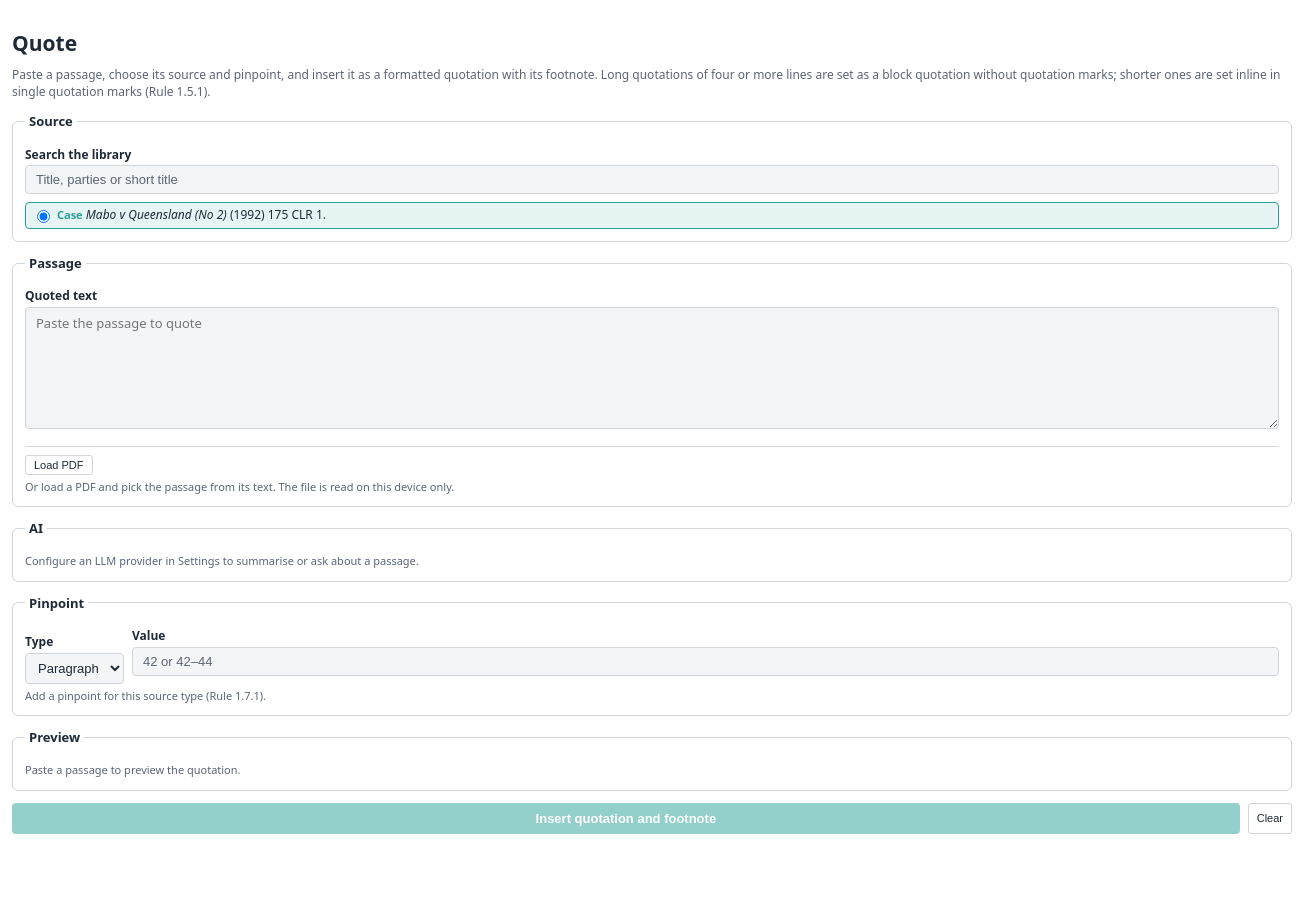
Test: Quote panel (ENP-010) › Clear resets the passage and pinpoint
The image size is (1304, 912).
Step 1. Type "[42] The common law of Australia recognises a form of native title which, in the cases where it has not been extinguished, reflects the entitlement of the indigenous inhabitants, in accordance with th" into the text box labelled "Quoted text" → [652, 368], box left=25, top=307, right=1279, bottom=429
(page scrolled)
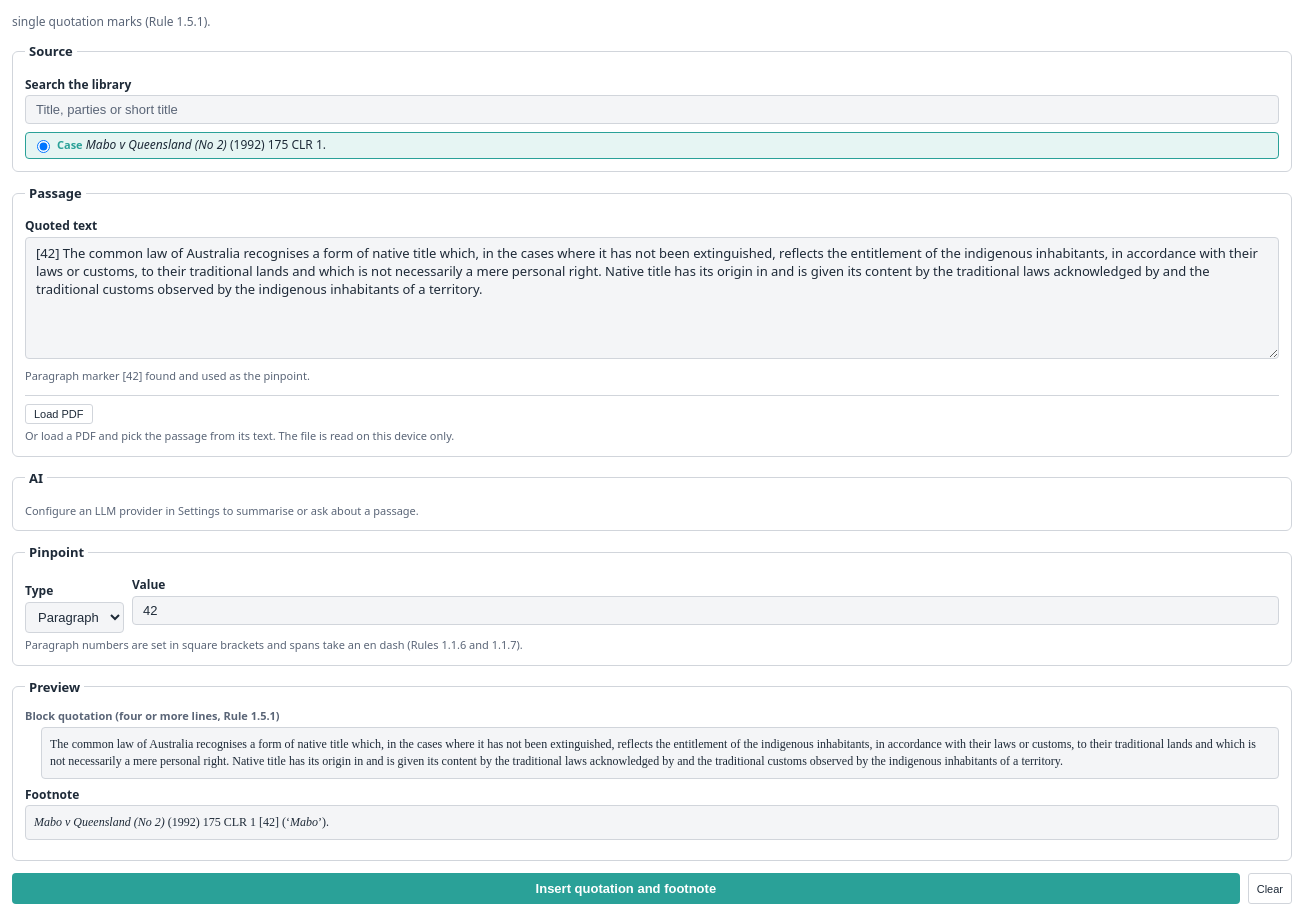
Expected: the field labelled "Value" holds "42", left=132, top=596, right=1279, bottom=625
Step 2. Click the button "Clear" → [1270, 889], box left=1248, top=873, right=1292, bottom=904
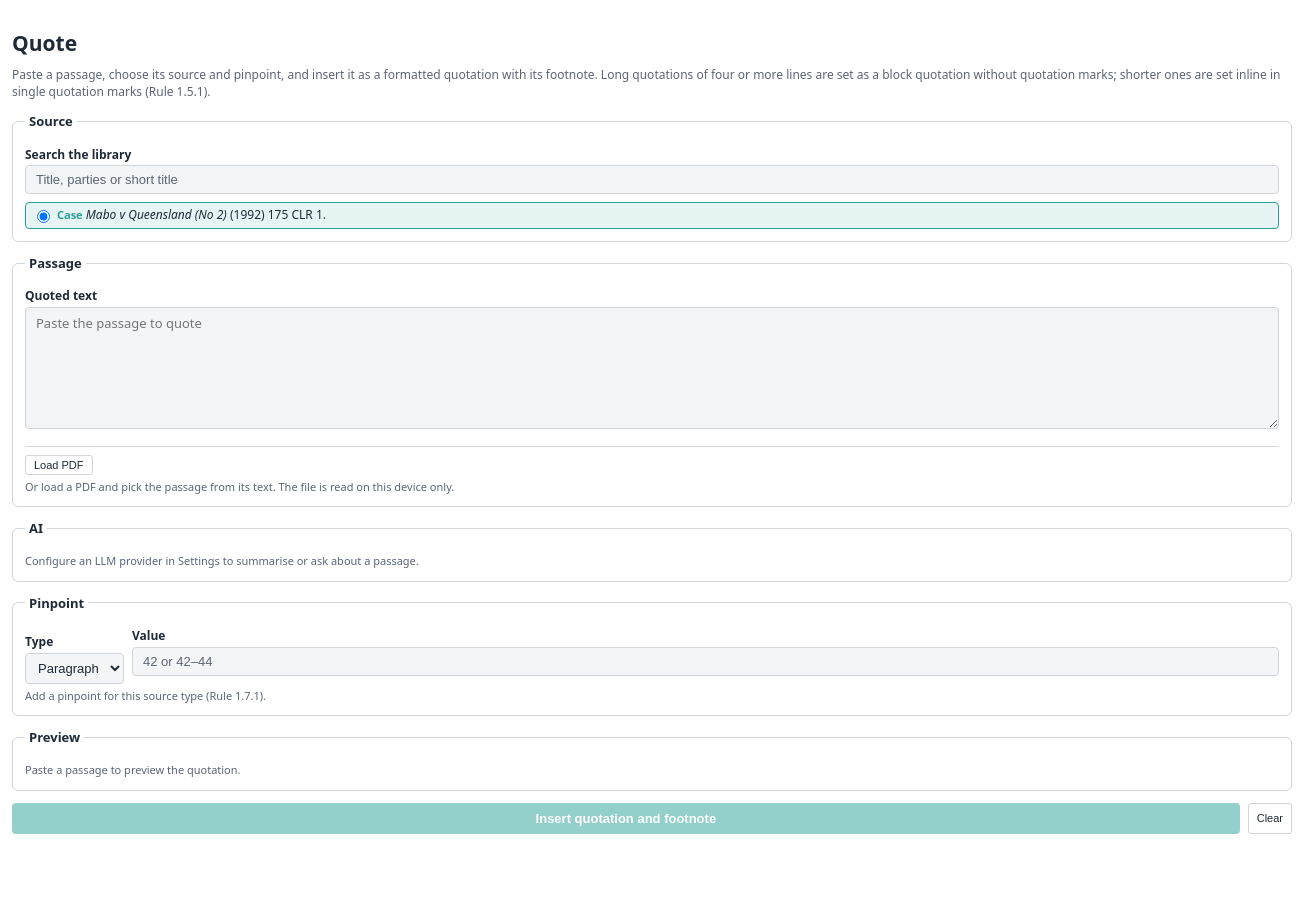
Expected: the text box labelled "Quoted text" is empty, left=25, top=307, right=1279, bottom=429
Expected: the field labelled "Value" is empty, left=132, top=647, right=1279, bottom=676
